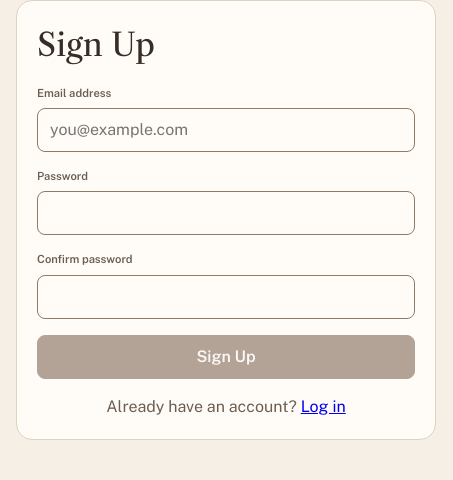
Test: SignupScreen › shows an inline error when passwords do not match
Type "correct-horse-battery" into the password field labelled "Password". click: point(226, 213)
box: 37,191 -> 415,235
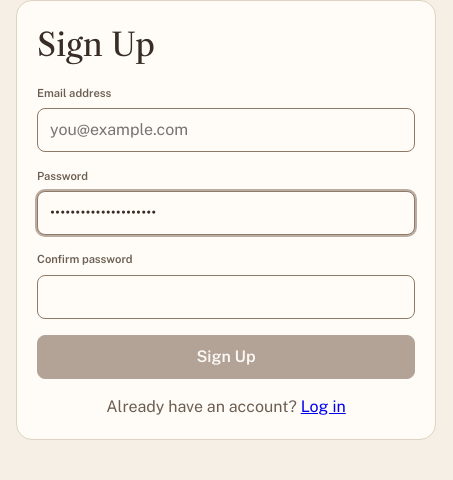
Type "something-else" into the password field labelled "Confirm password". click: point(226, 297)
box: 37,275 -> 415,319
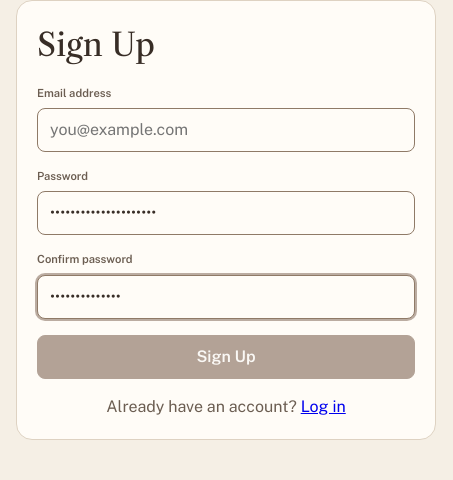
Press Tab
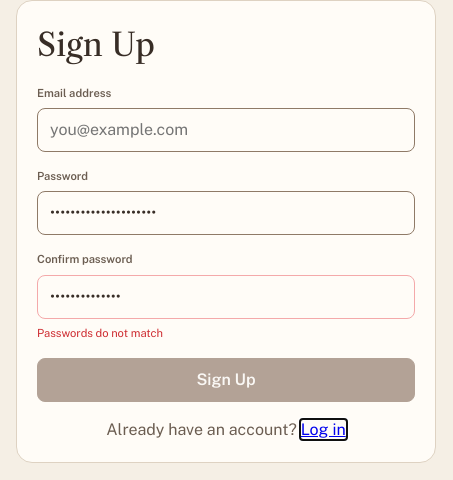
Now the text "Passwords do not match" is shown, box 37,326 -> 163,340
